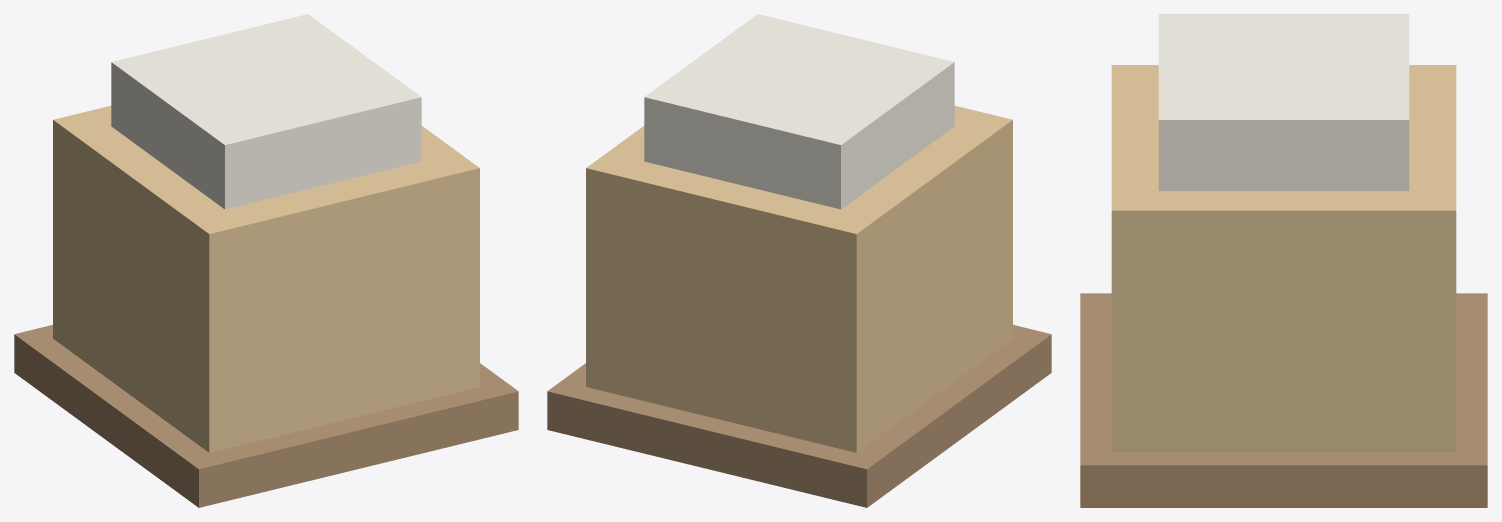
File: Item_DS_Food_Bread.glb
The picture shows the model from 3 angles, left to right: view 1: azimuth 30°, elevation 25°; view 2: azimuth 150°, elevation 25°; view 3: azimuth 270°, elevation 25°; orthographic projection. The views are drawn at different scales.
Visible parts, largest first — view 1: Cube, Cube.001, Cube.002; view 2: Cube, Cube.001, Cube.002; view 3: Cube, Cube.001, Cube.002.
Part boxes in pixels (box(x1,y1,x2,y2)): Cube: box(53, 105, 479, 452); Cube.001: box(111, 14, 421, 209); Cube.002: box(14, 325, 518, 507); Cube: box(586, 105, 1012, 452); Cube.001: box(644, 14, 954, 209); Cube.002: box(547, 325, 1051, 507); Cube: box(1111, 65, 1456, 451); Cube.001: box(1158, 14, 1409, 190); Cube.002: box(1080, 293, 1487, 507).
Size of the model in its own units: 0.26 by 0.25 by 0.26.
